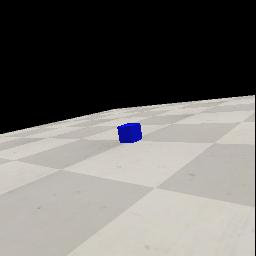box: (117, 123, 142, 143)
